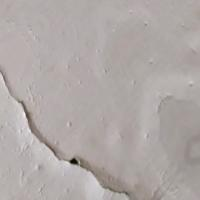crack: (1, 59, 162, 199)
